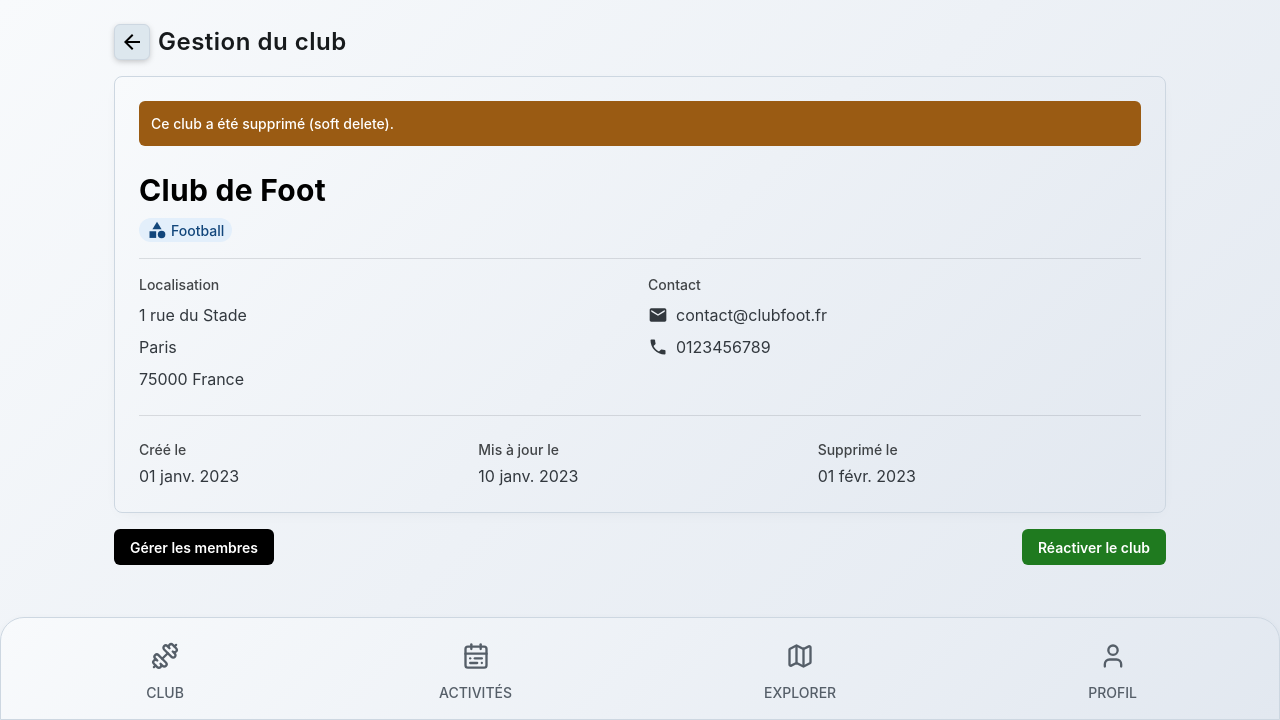
Scenario: ManageClub › réactive le club supprimé
This screenshot has width=1280, height=720.
Click the button "Réactiver le club". click: (1094, 547)
box: [1022, 529, 1166, 565]
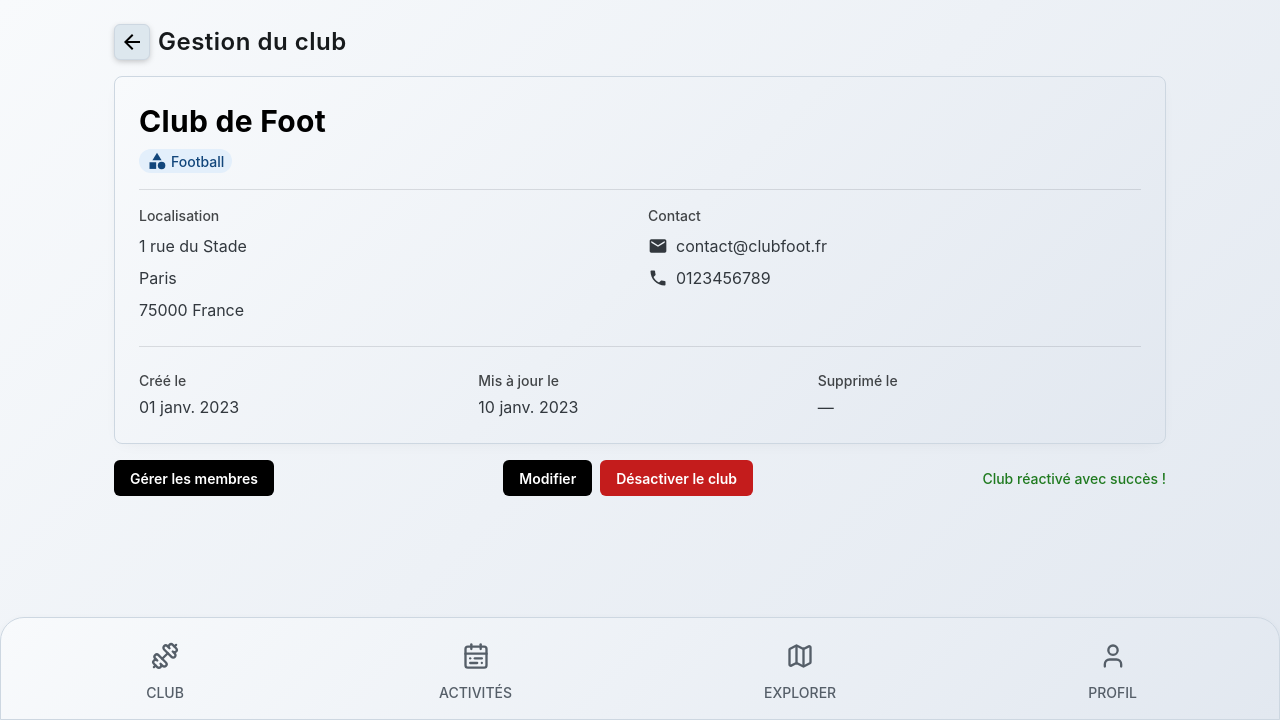
Expected: the text "Club réactivé avec succès !" is shown, [982, 468, 1166, 488]
